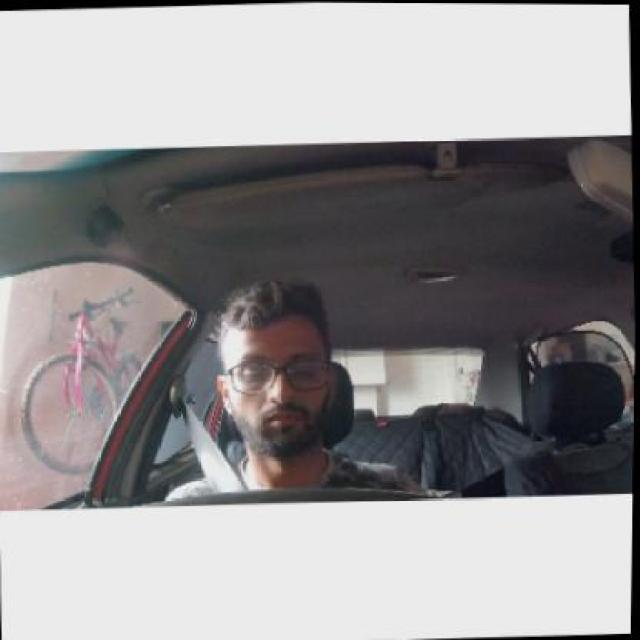drowsy: (214, 278, 340, 458)
